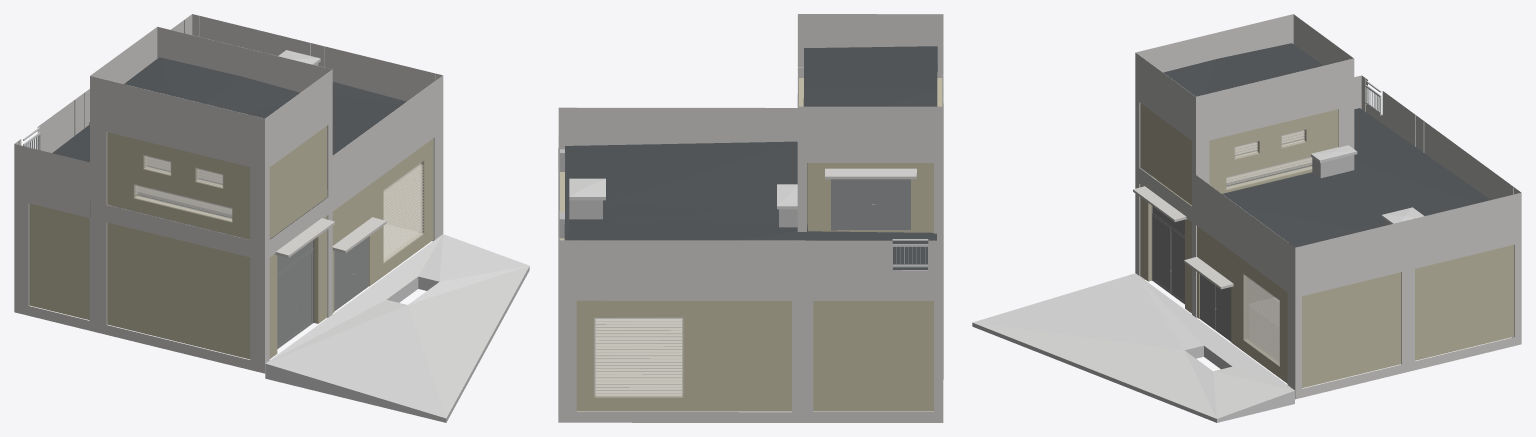
3 views of the same model, side by side, from view 1: azimuth 30°, elevation 25°; view 2: azimuth 150°, elevation 25°; view 3: azimuth 270°, elevation 25° (orthographic). The views are drawn at different scales.
Visible parts, largest first — view 1: 1O3CBrsUXB4xQcH2WEt8ZR, 1iqx5wWAz70eqveVNq3xcD, 2dmltNkKv0UA7488F1PvE7, 0zQSJ3wXH5uP8vpgfnkWak, 1iqx5wWAz70eqveVNq3wNx, 36ybmRb9b2ffQB$ywFHVcr, 0zQSJ3wXH5uP8vpgfnkWW7, 3L_0HFaMz8fhAyaQneFqKP, 1FnSQtUCn0NAVXTELs$ZXj, 36ybmRb9b2ffQB$ywFHVeq, 1HmPdz02DB4A1ZRANWkove, 1meqodt1n56Bt1U0U4Wdou (+7 smaller); view 2: 1iqx5wWAz70eqveVNq3xcD, 1HmPdz02DB4A1ZRANWkove, 3L_0HFaMz8fhAyaQneFth3, 1iqx5wWAz70eqveVNq3wNx, 2dmltNkKv0UA7488F1PvE7, 0zQSJ3wXH5uP8vpgfnkdQl, 1FnSQtUCn0NAVXTELs$ZXj, 3PjaR8fbv2oh87yDtpzQtF, 29C0ZRxGLANxpxtNZIYkjN, 36ybmRb9b2ffQB$ywFHH9H, 36ybmRb9b2ffQB$ywFHVaB, 19HJLWi1T4YOkjBgMypKJi (+6 smaller); view 3: 1O3CBrsUXB4xQcH2WEt8ZR, 1iqx5wWAz70eqveVNq3xcD, 2dmltNkKv0UA7488F1PvE7, 1HmPdz02DB4A1ZRANWkove, 1iqx5wWAz70eqveVNq3wNx, 3L_0HFaMz8fhAyaQneFq6D, 0zQSJ3wXH5uP8vpgfnkdOi, 0zQSJ3wXH5uP8vpgfnkWW7, 36ybmRb9b2ffQB$ywFHVji, 1FnSQtUCn0NAVXTELs$ZXj, 36ybmRb9b2ffQB$ywFHVeq, 1meqodt1n56Bt1U0U4Wdou (+7 smaller).
Boxes of the visible parts, x1,y1,x2,y2 form: 1O3CBrsUXB4xQcH2WEt8ZR: [265, 234, 529, 422]; 1iqx5wWAz70eqveVNq3xcD: [19, 16, 435, 257]; 2dmltNkKv0UA7488F1PvE7: [90, 26, 332, 170]; 0zQSJ3wXH5uP8vpgfnkWak: [107, 222, 250, 359]; 1iqx5wWAz70eqveVNq3wNx: [14, 14, 443, 373]; 36ybmRb9b2ffQB$ywFHVcr: [107, 132, 250, 239]; 0zQSJ3wXH5uP8vpgfnkWW7: [269, 138, 433, 358]; 3L_0HFaMz8fhAyaQneFqKP: [29, 203, 89, 319]; 1FnSQtUCn0NAVXTELs$ZXj: [124, 57, 299, 118]; 36ybmRb9b2ffQB$ywFHVeq: [269, 126, 327, 238]; 1HmPdz02DB4A1ZRANWkove: [52, 82, 406, 162]; 1meqodt1n56Bt1U0U4Wdou: [277, 239, 314, 349]; 1iqx5wWAz70eqveVNq3xcD: [558, 107, 943, 300]; 1HmPdz02DB4A1ZRANWkove: [564, 141, 936, 269]; 3L_0HFaMz8fhAyaQneFth3: [576, 300, 791, 411]; 1iqx5wWAz70eqveVNq3wNx: [558, 107, 943, 422]; 2dmltNkKv0UA7488F1PvE7: [797, 14, 943, 162]; 0zQSJ3wXH5uP8vpgfnkdQl: [813, 301, 933, 411]; 1FnSQtUCn0NAVXTELs$ZXj: [803, 46, 937, 106]; 3PjaR8fbv2oh87yDtpzQtF: [594, 317, 683, 397]; 29C0ZRxGLANxpxtNZIYkjN: [594, 318, 682, 394]; 36ybmRb9b2ffQB$ywFHH9H: [831, 179, 910, 230]; 36ybmRb9b2ffQB$ywFHVaB: [807, 163, 933, 232]; 19HJLWi1T4YOkjBgMypKJi: [825, 168, 916, 179]; 1O3CBrsUXB4xQcH2WEt8ZR: [972, 273, 1294, 422]; 1iqx5wWAz70eqveVNq3xcD: [1139, 78, 1514, 296]; 2dmltNkKv0UA7488F1PvE7: [1135, 14, 1354, 143]; 1HmPdz02DB4A1ZRANWkove: [1222, 108, 1490, 247]; 1iqx5wWAz70eqveVNq3wNx: [1135, 75, 1521, 399]; 3L_0HFaMz8fhAyaQneFq6D: [1302, 272, 1401, 388]; 0zQSJ3wXH5uP8vpgfnkdOi: [1415, 245, 1514, 360]; 0zQSJ3wXH5uP8vpgfnkWW7: [1140, 184, 1287, 383]; 36ybmRb9b2ffQB$ywFHVji: [1209, 109, 1338, 193]; 1FnSQtUCn0NAVXTELs$ZXj: [1163, 43, 1323, 96]; 36ybmRb9b2ffQB$ywFHVeq: [1140, 103, 1191, 204]; 1meqodt1n56Bt1U0U4Wdou: [1151, 205, 1184, 304].
Bounding box in the file's own units: 18.4 × 10.51 × 22.33.
